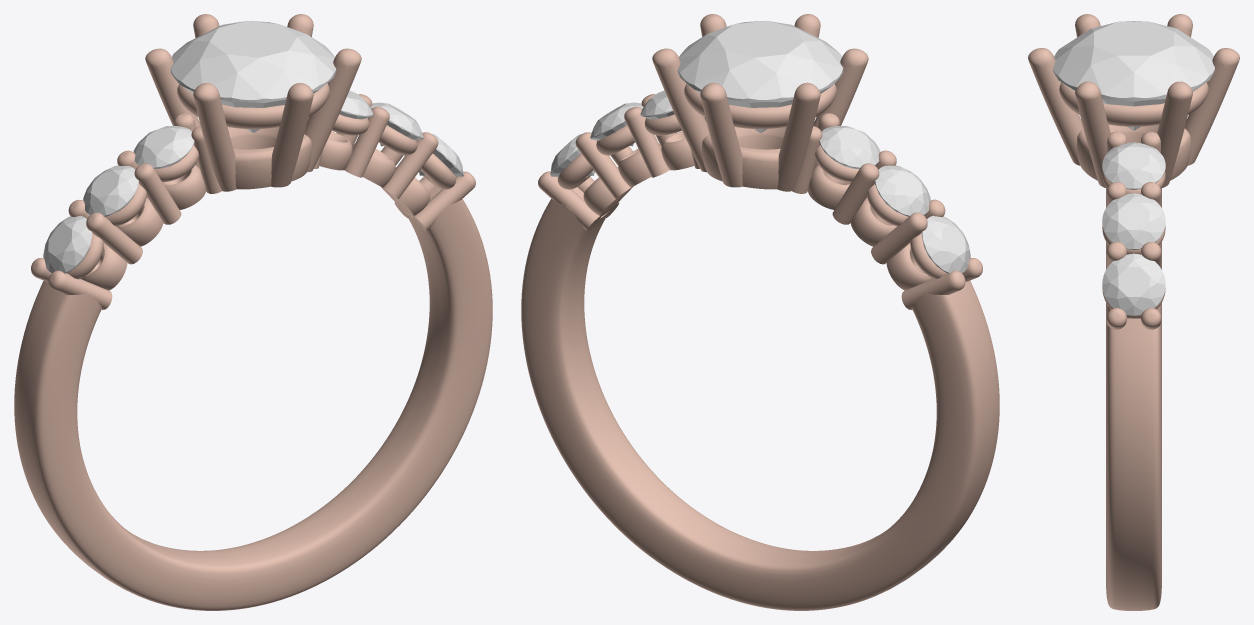
Rendered from diamond-round-rosegold-6prong-straightband-3stone.glb.
3 views of the same model, side by side, from view 1: azimuth 30°, elevation 25°; view 2: azimuth 150°, elevation 25°; view 3: azimuth 270°, elevation 25° (orthographic). The views are drawn at different scales.
Parts seen in each view (by area): view 1: metal, stone, side.002, side.001, side, side.004, side.003; view 2: metal, stone, side.002, side.001, side, side.004, side.003; view 3: metal, stone, side.005, side.004, side.003.
Part boxes in pixels (bbox=[...]): metal: bbox=[14, 14, 492, 610]; stone: bbox=[170, 20, 336, 133]; side.002: bbox=[43, 215, 92, 273]; side.001: bbox=[83, 165, 138, 216]; side: bbox=[133, 126, 194, 168]; side.004: bbox=[370, 102, 423, 146]; side.003: bbox=[339, 90, 373, 119]; metal: bbox=[521, 14, 999, 610]; stone: bbox=[677, 20, 843, 133]; side.002: bbox=[921, 215, 970, 273]; side.001: bbox=[875, 165, 930, 216]; side: bbox=[819, 126, 880, 168]; side.004: bbox=[590, 102, 643, 146]; side.003: bbox=[640, 90, 674, 119]; metal: bbox=[1028, 14, 1239, 610]; stone: bbox=[1053, 21, 1214, 130]; side.005: bbox=[1102, 253, 1165, 315]; side.004: bbox=[1102, 193, 1165, 249]; side.003: bbox=[1102, 142, 1165, 189].
Bounding box in the file's own units: 20.5 × 23.81 × 8.35.
